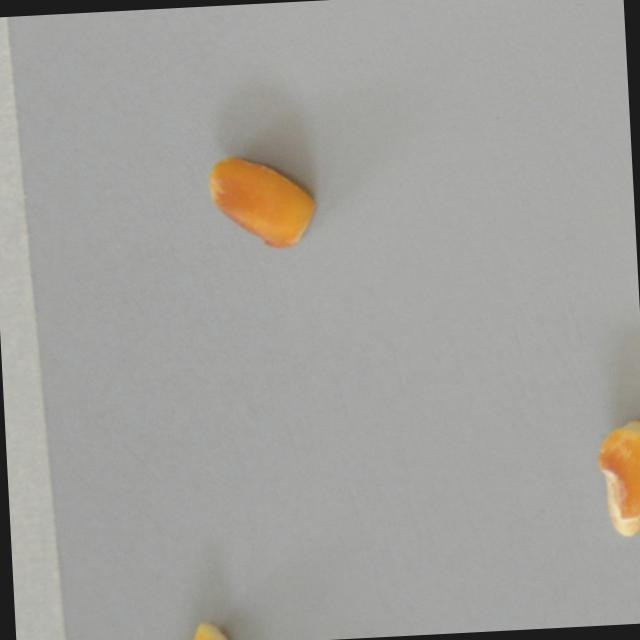dañado: (203, 145, 318, 253), (595, 418, 640, 541), (160, 618, 252, 640)
